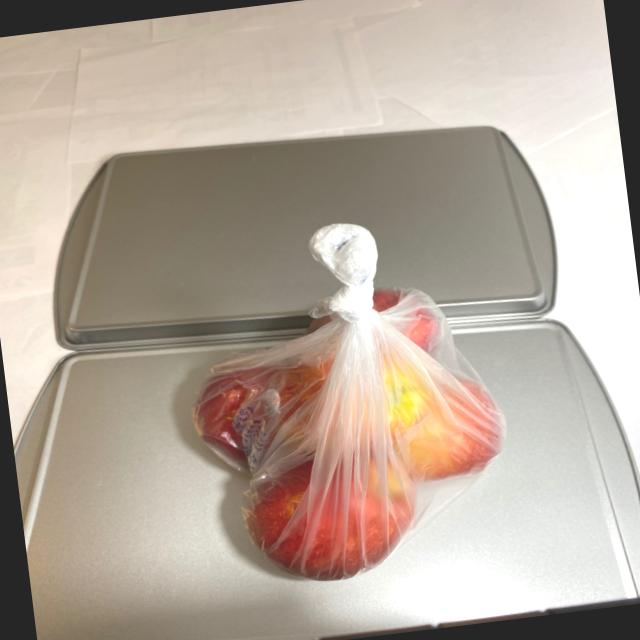apple: (175, 272, 527, 600)
